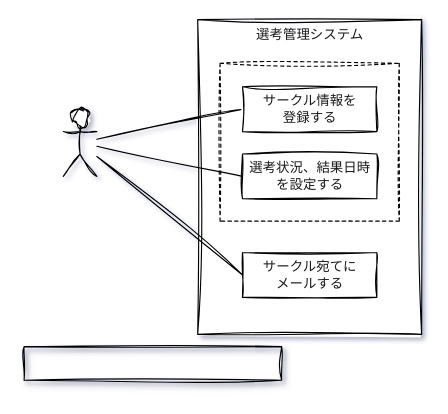
The diagram is 448 pixels wide and 414 high, and some of its shapes have lost their labels. The shapes that lost their labels are listed below. From the top down, each one's centre as x and y in pixels, then its label:
At (79,142): "コミケ運営".
At (153,364): "※本来のシステムとまったく異なります".
